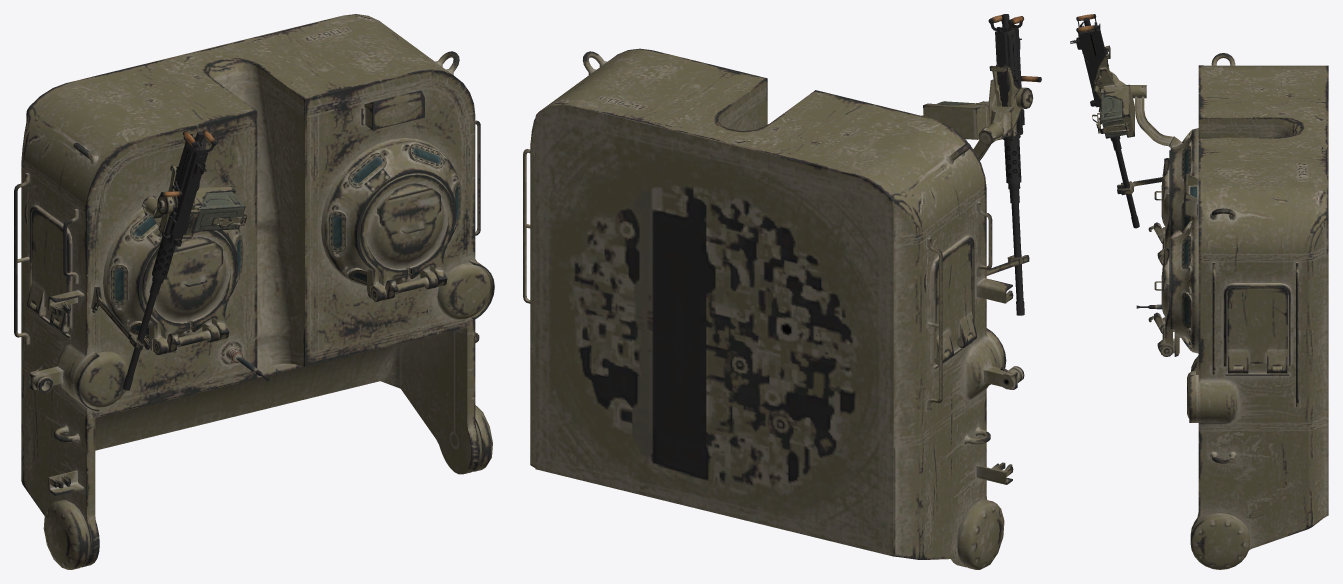
File: Turret_01.glb
3 views of the same model, side by side, from view 1: azimuth 30°, elevation 25°; view 2: azimuth 150°, elevation 25°; view 3: azimuth 270°, elevation 25° (orthographic). The views are drawn at different scales.
Parts seen in each view (by area): view 1: set_0_group_0; view 2: set_0_group_0; view 3: set_0_group_0.
Boxes of the visible parts, x1,y1,x2,y2 form: set_0_group_0: [14, 14, 494, 569]; set_0_group_0: [523, 14, 1041, 569]; set_0_group_0: [1070, 14, 1328, 569].
Bounding box in the file's own units: 2.81 × 2.88 × 1.66.
Materials: 1 (1 with a texture image).
